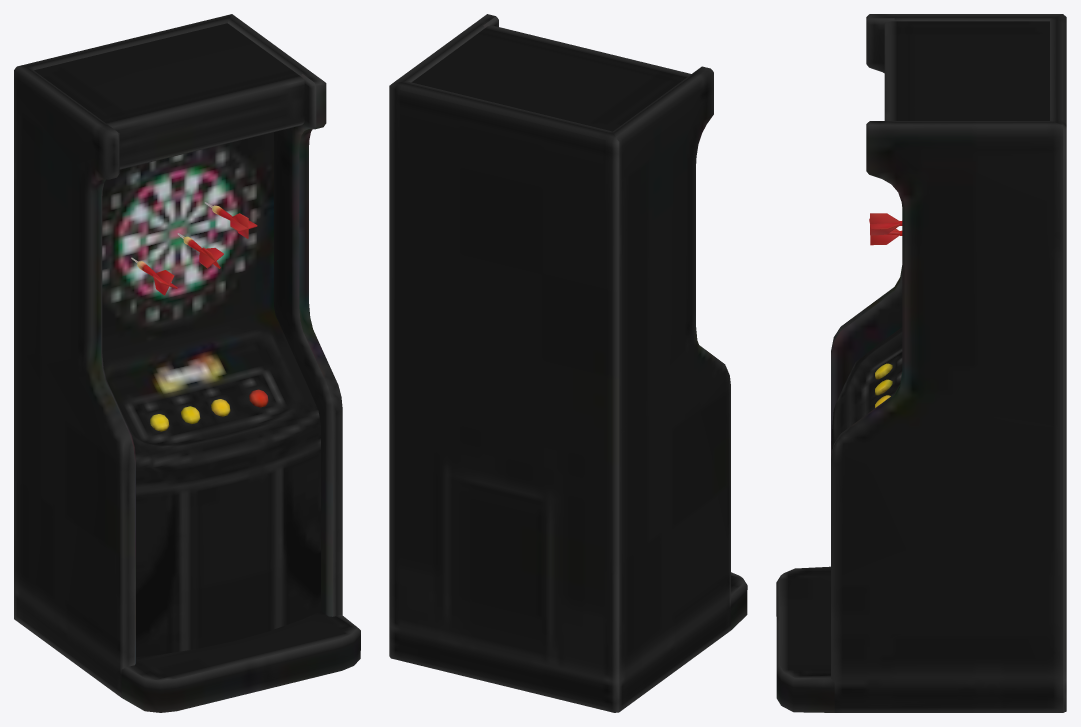
The picture shows the model from 3 angles, left to right: view 1: azimuth 30°, elevation 25°; view 2: azimuth 150°, elevation 25°; view 3: azimuth 270°, elevation 25°; orthographic projection. The views are drawn at different scales.
Bounding box in the file's own units: 7.95 × 18.97 × 8.52.
Materials: 1 (1 with a texture image).
